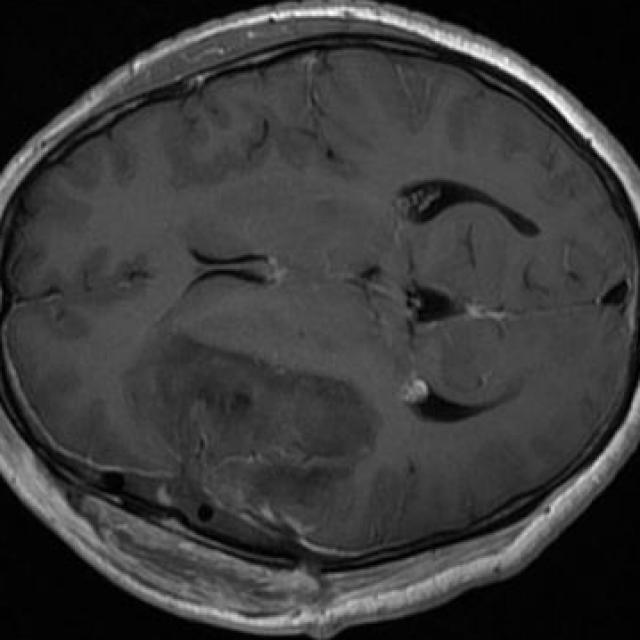glioma: (150, 335, 382, 535)
